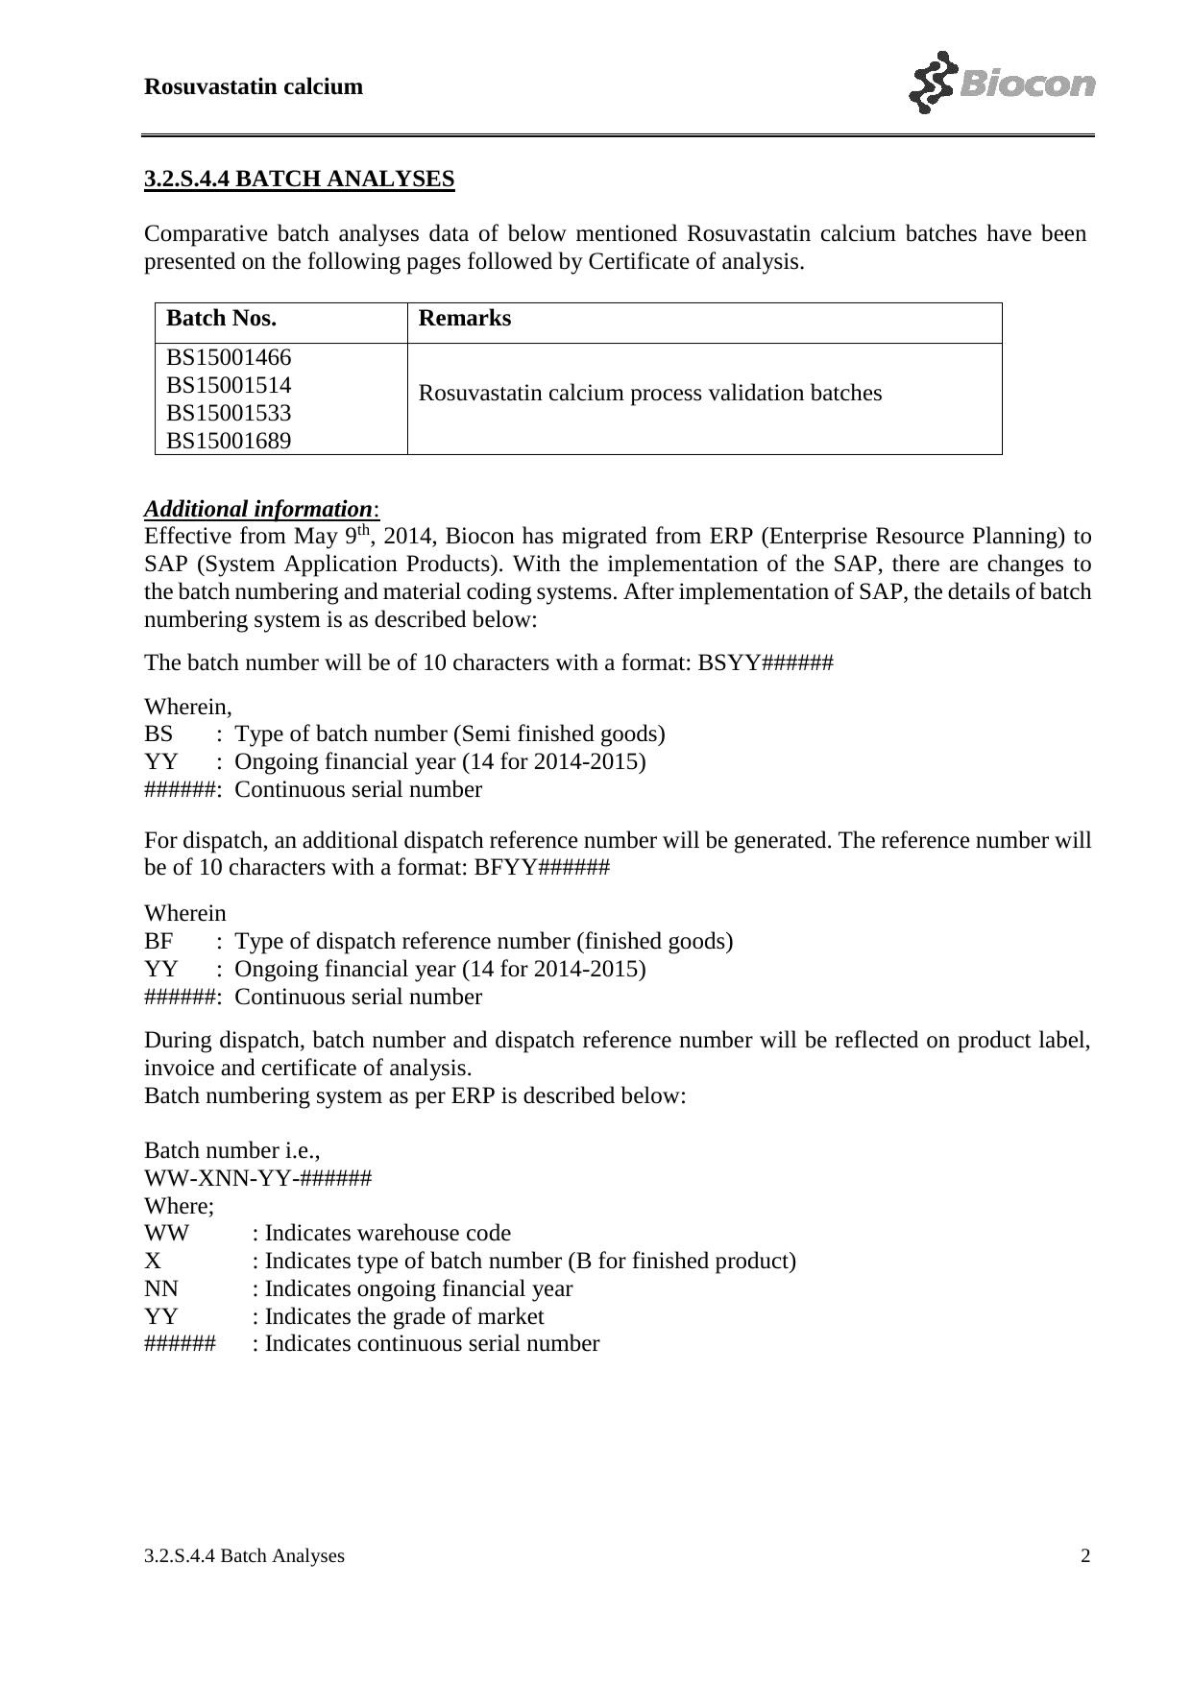merged_cells: (154, 300, 1005, 456)
nolines: (141, 1220, 799, 1355), (141, 926, 740, 1010), (141, 720, 667, 802)
